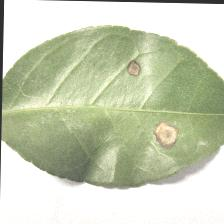canker: (110, 41, 208, 163)
